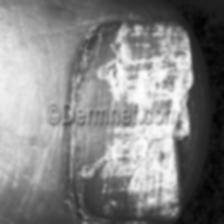Toxin: (92, 132, 190, 224), (102, 30, 198, 102)
